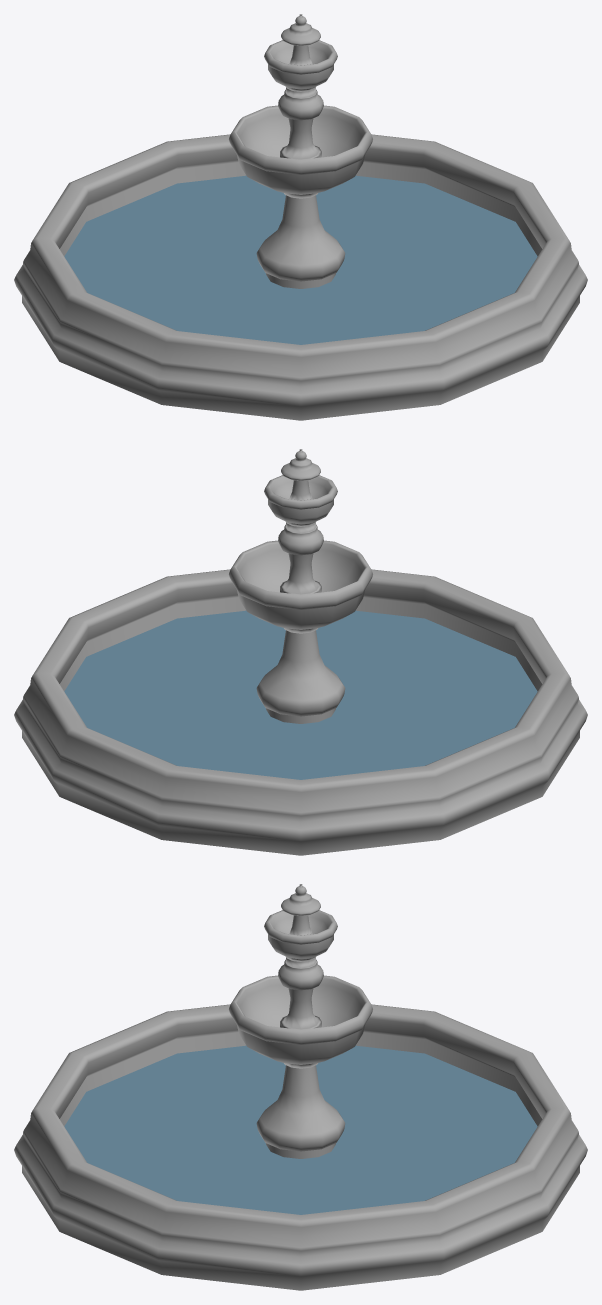
Rendered from Fuente.fbx.
3 renders of one model, top to bottom at view 1: azimuth 30°, elevation 25°; view 2: azimuth 150°, elevation 25°; view 3: azimuth 270°, elevation 25°, orthographic.
Parts seen in each view (by area): view 1: polySurface130, polySurface129, polySurface131; view 2: polySurface130, polySurface129, polySurface131; view 3: polySurface130, polySurface129, polySurface131.
Boxes of the visible parts, <box> form: polySurface130: <box>14,134,587,420</box>; polySurface129: <box>64,175,537,344</box>; polySurface131: <box>229,14,372,288</box>; polySurface130: <box>14,569,587,855</box>; polySurface129: <box>64,610,537,779</box>; polySurface131: <box>229,449,372,723</box>; polySurface130: <box>14,1004,587,1290</box>; polySurface129: <box>64,1045,537,1214</box>; polySurface131: <box>229,884,372,1158</box>.
Bounding box in the file's own units: 846 × 469 × 846.
